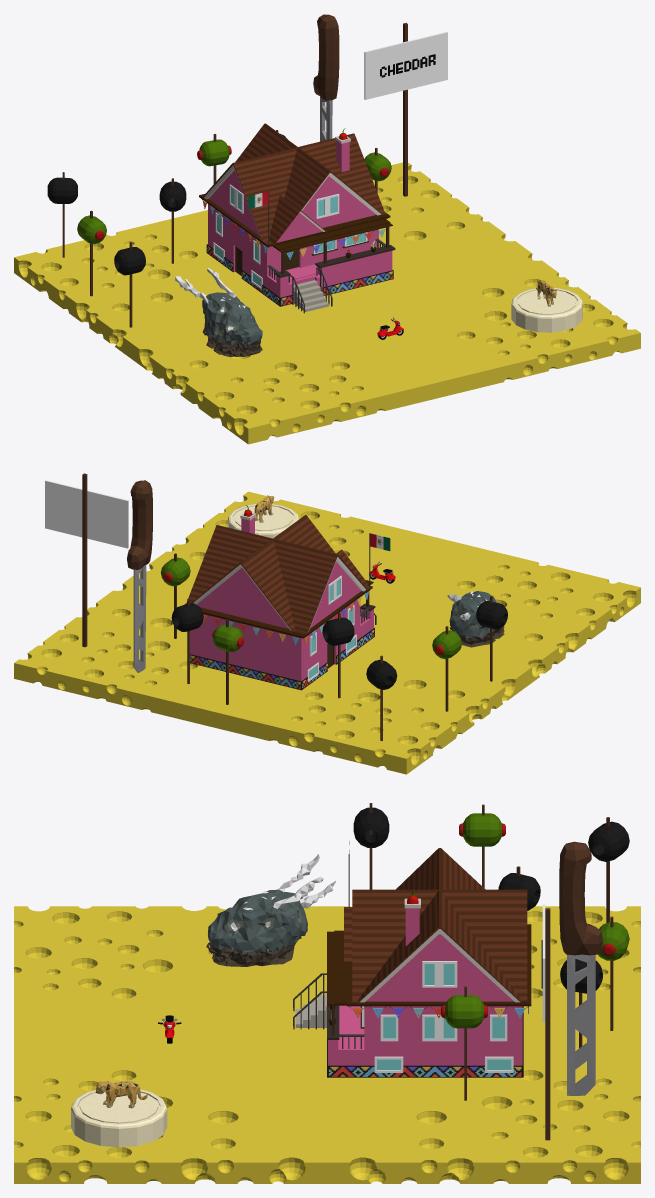
The picture shows the model from 3 angles, top to bottom: view 1: azimuth 30°, elevation 25°; view 2: azimuth 150°, elevation 25°; view 3: azimuth 270°, elevation 25°; orthographic projection. The views are drawn at different scales.
Parts seen in each view (by area): view 1: Cube.022, Cube.1005, Cube.023, OBJRANDOM_METEORITE, Cylinder.016, Cube.024, Sphere.017, Sphere.016, Sphere.020, Sphere.018, Sphere.022, Sphere.019; view 2: Cube.022, Cube.1005, Cube.023, Cube.024, OBJRANDOM_METEORITE, Cylinder.016, Sphere.017, Sphere.020, Sphere.021, Sphere.016, Sphere.018, Sphere.022 (+1 smaller); view 3: Cube.022, Cube.1005, OBJRANDOM_METEORITE, Cube.024, Cylinder.016, Cube.023, Sphere.019, Sphere.016, Sphere.018, Sphere.017, Sphere.022, ANIMAL_JAGUAR (+2 smaller).
Boxes of the visible parts, x1,y1,x2,y2 form: Cube.022: [14, 162, 640, 444]; Cube.1005: [199, 123, 395, 313]; Cube.023: [364, 23, 447, 196]; OBJRANDOM_METEORITE: [175, 268, 262, 357]; Cylinder.016: [511, 288, 582, 332]; Cube.024: [313, 14, 339, 141]; Sphere.017: [114, 242, 145, 327]; Sphere.016: [47, 172, 77, 257]; Sphere.020: [159, 178, 186, 263]; Sphere.018: [77, 210, 106, 296]; Sphere.022: [197, 134, 231, 183]; Sphere.019: [364, 148, 391, 192]; Cube.022: [14, 491, 640, 774]; Cube.1005: [184, 505, 390, 690]; Cube.023: [45, 473, 128, 647]; Cube.024: [127, 480, 152, 672]; OBJRANDOM_METEORITE: [447, 590, 504, 647]; Cylinder.016: [228, 504, 298, 538]; Sphere.017: [476, 596, 507, 681]; Sphere.020: [322, 612, 354, 698]; Sphere.021: [171, 598, 203, 683]; Sphere.016: [366, 655, 397, 741]; Sphere.018: [432, 626, 461, 711]; Sphere.022: [212, 619, 244, 704]; Cube.022: [14, 906, 640, 1183]; Cube.1005: [293, 841, 531, 1077]; OBJRANDOM_METEORITE: [206, 854, 335, 966]; Cube.024: [559, 841, 602, 1095]; Cylinder.016: [71, 1089, 167, 1147]; Cube.023: [541, 904, 550, 1140]; Sphere.019: [441, 986, 487, 1100]; Sphere.016: [588, 817, 629, 922]; Sphere.018: [459, 804, 505, 888]; Sphere.017: [353, 803, 389, 889]; Sphere.022: [598, 916, 629, 1030]; ANIMAL_JAGUAR: [95, 1081, 147, 1108].
Bounding box in the file's own units: 3917 × 2010 × 4000.
72 materials, 5 textured.
